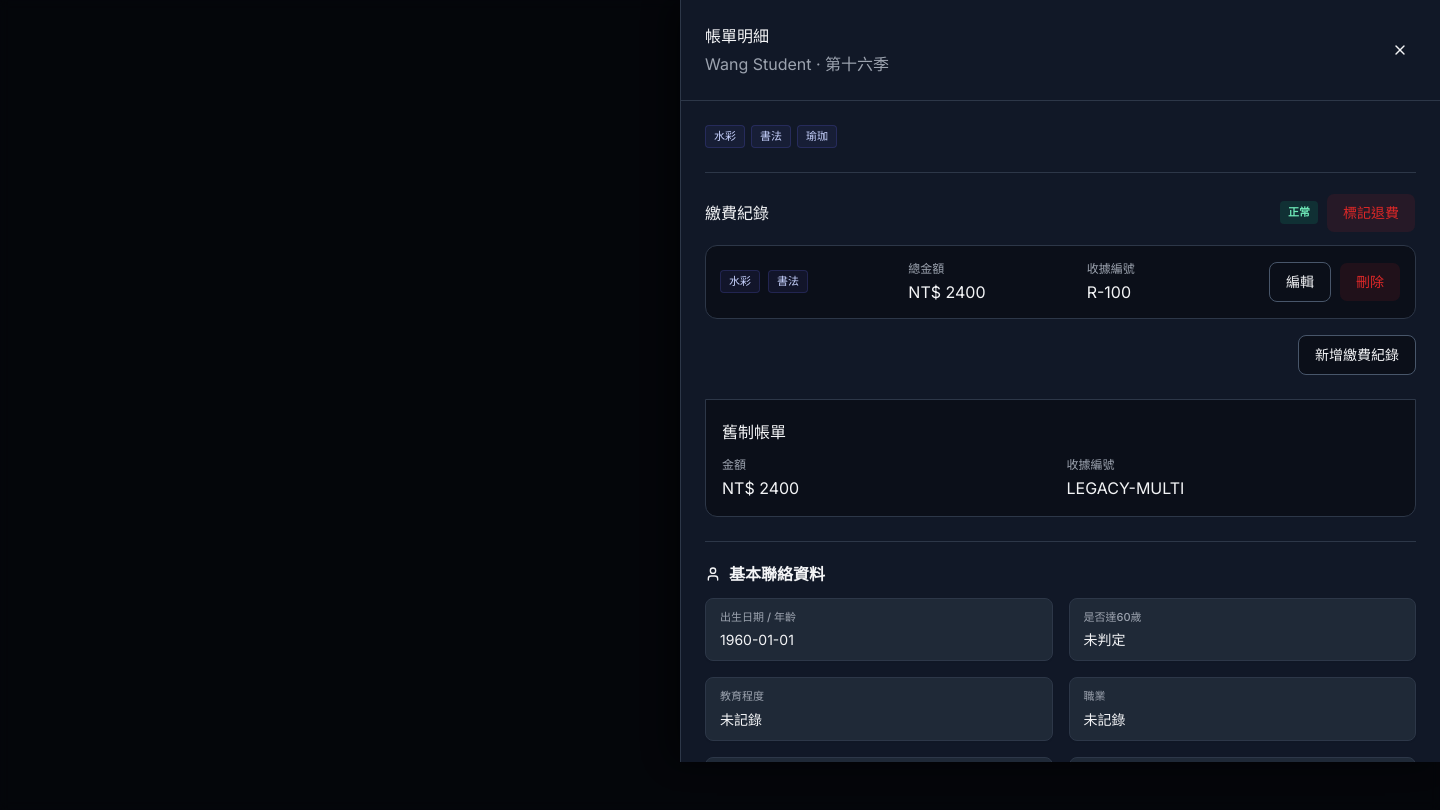
Test: EnrollmentBillingDetailModal › refreshes stale data when selected courses already have a payment
Click the button "新增繳費紀錄": (1357, 354) left=1298, top=334, right=1416, bottom=374
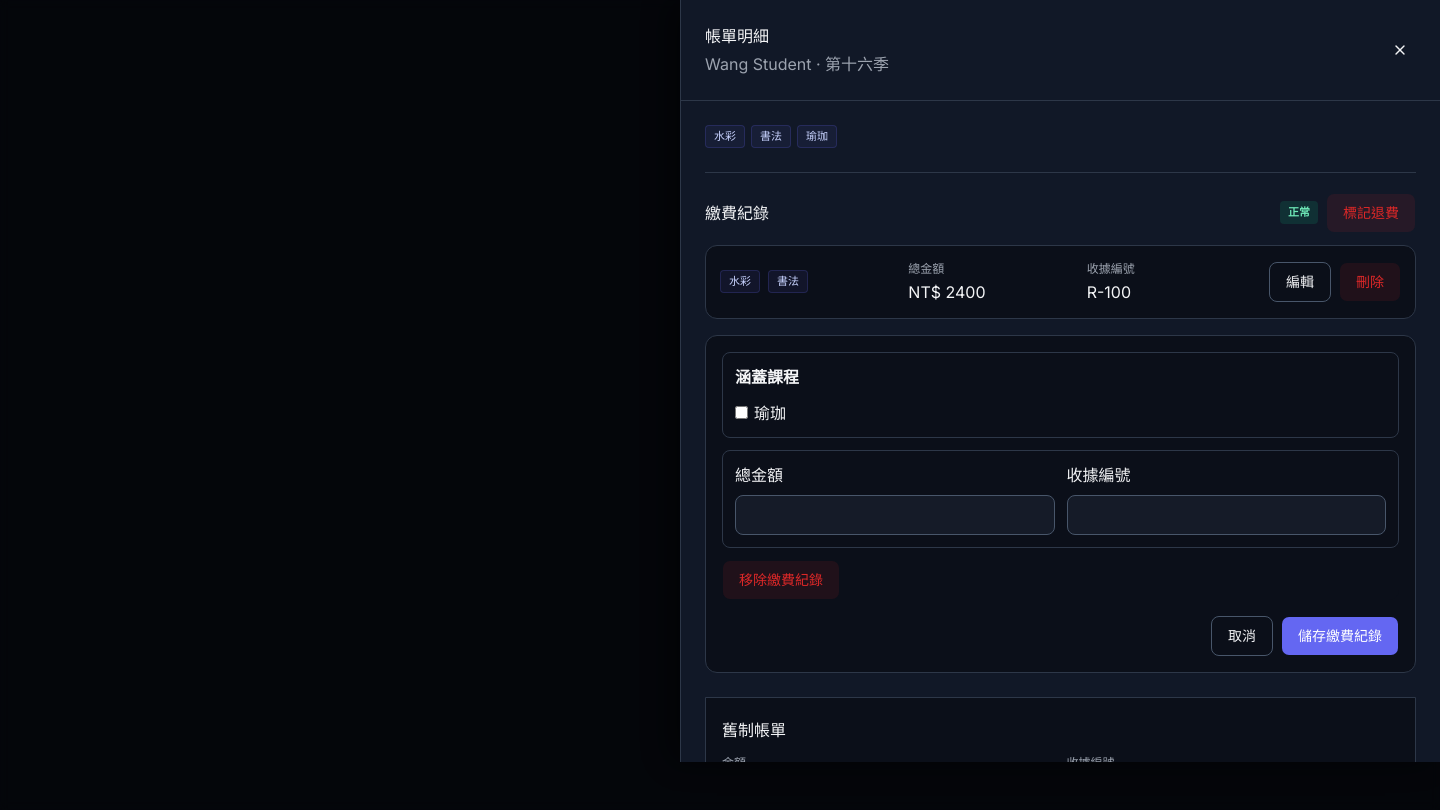
Click the checkbox labelled "瑜珈": (742, 412) left=735, top=406, right=748, bottom=419
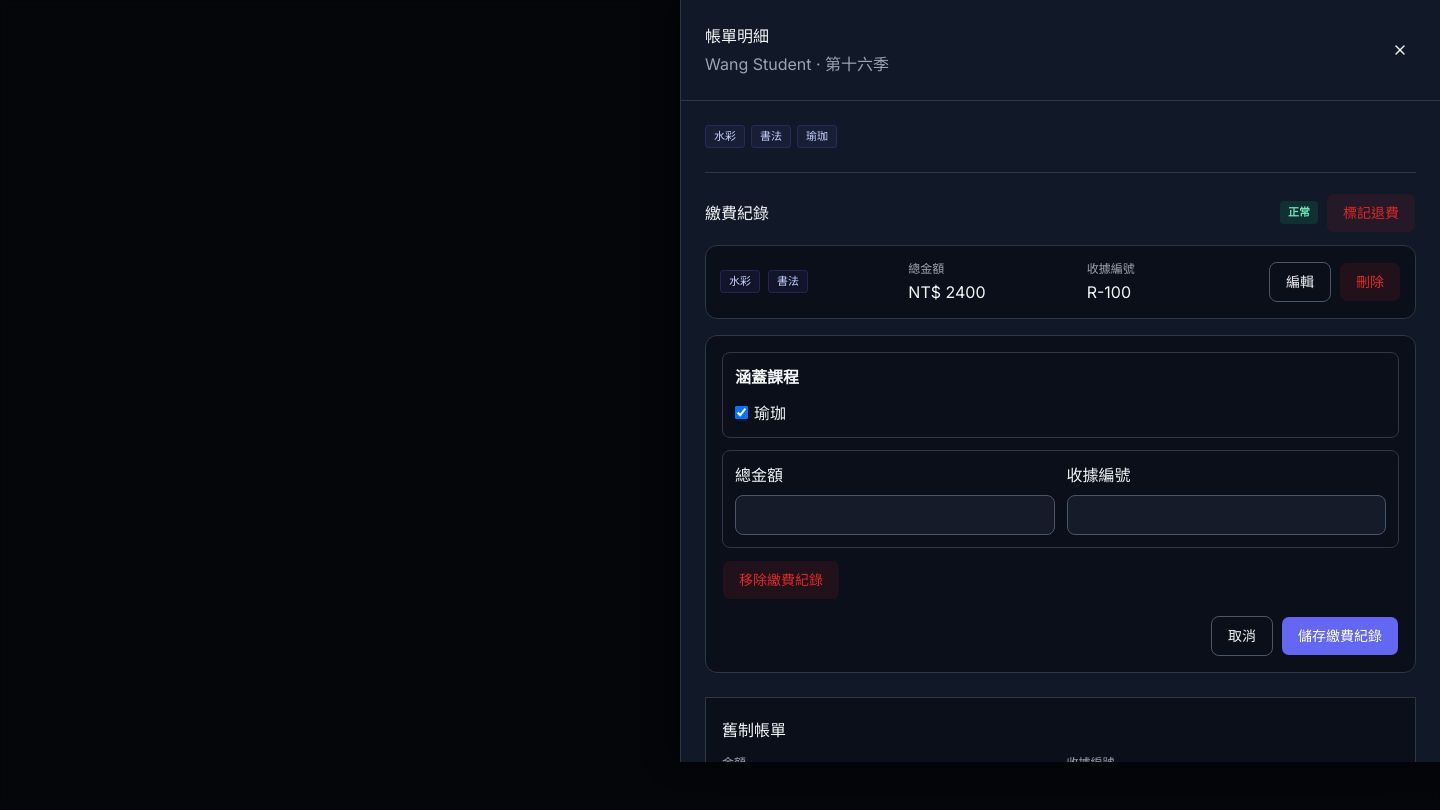
In the number field labelled "總金額": (895, 514) left=735, top=494, right=1054, bottom=534, type "1600"
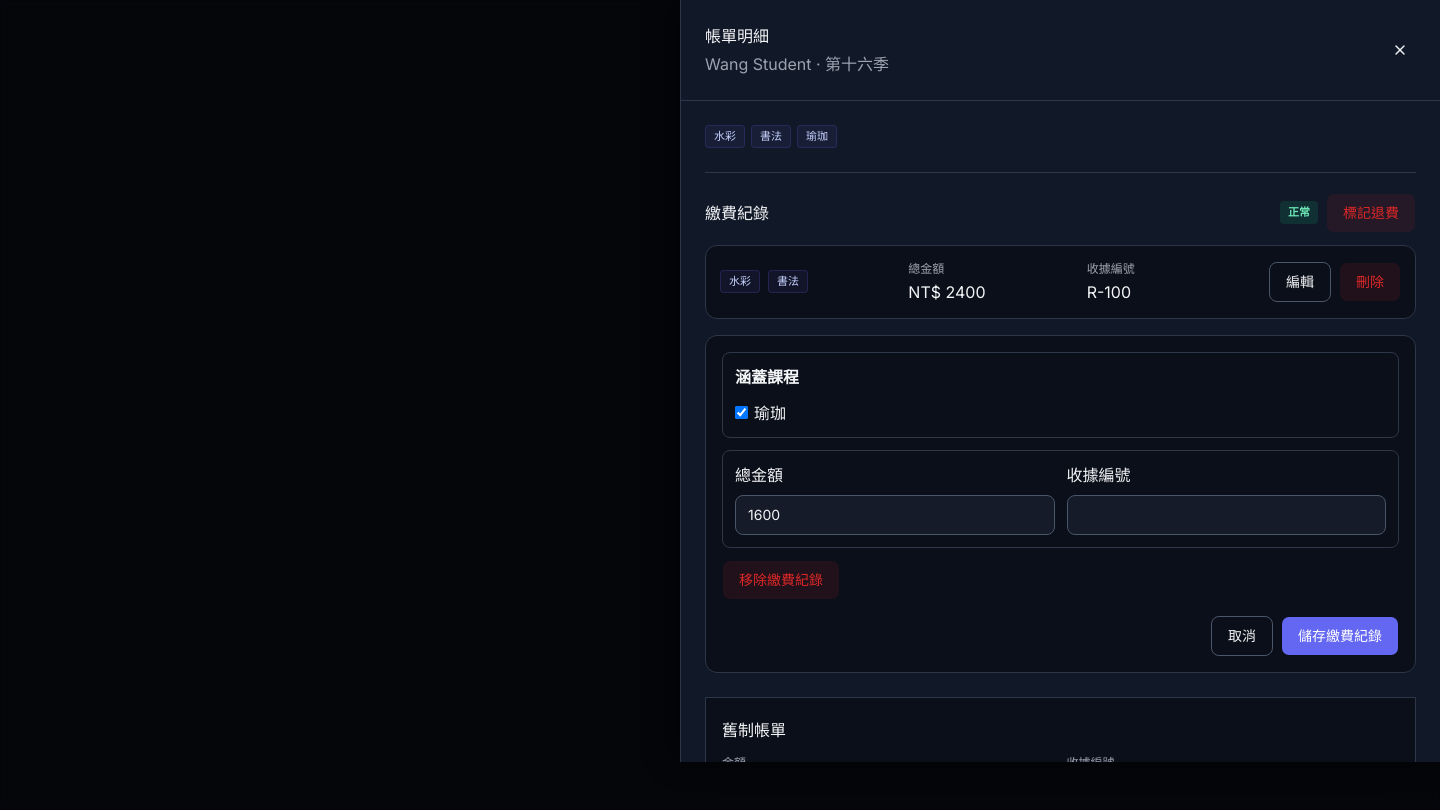
Click the button "儲存繳費紀錄": (1340, 636) left=1281, top=616, right=1399, bottom=656
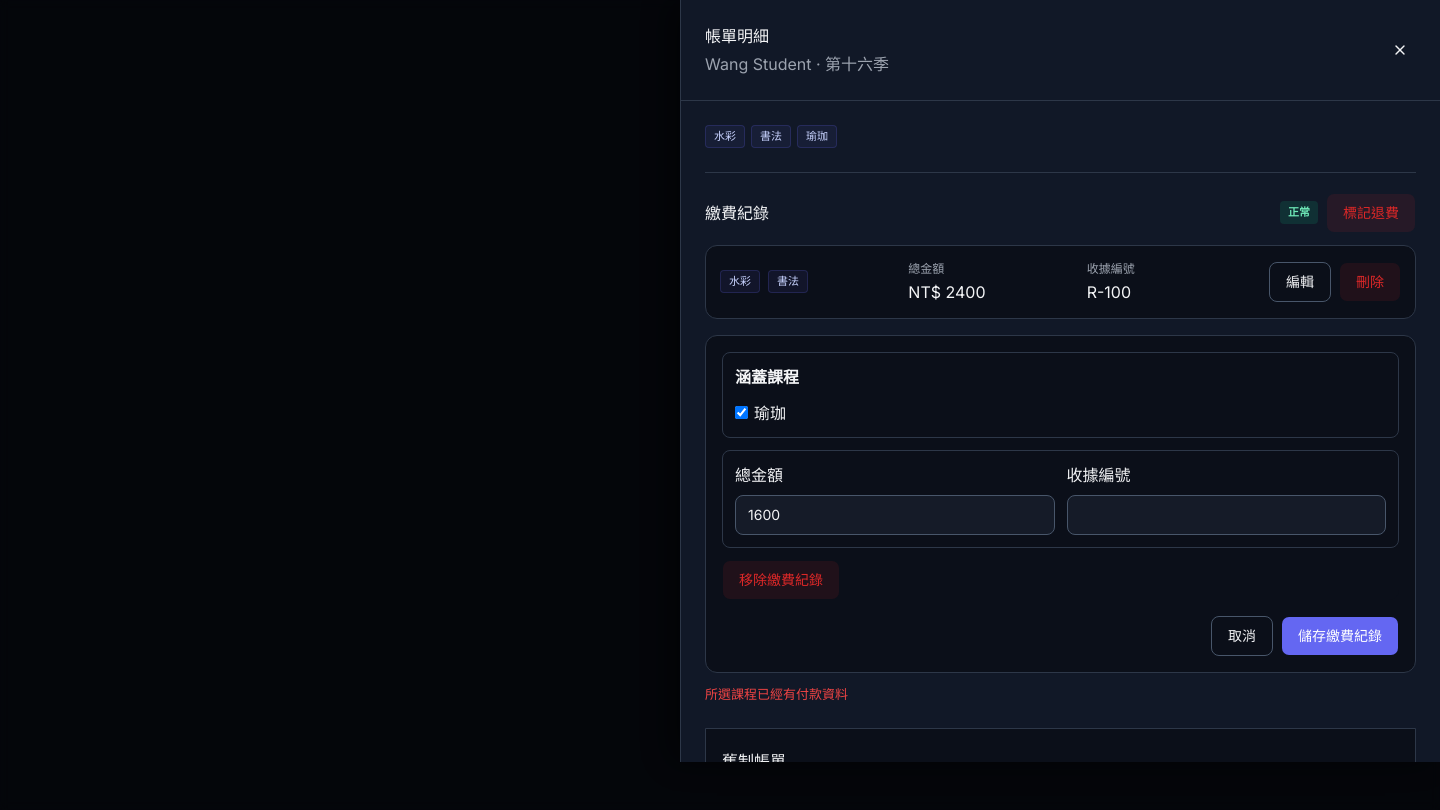
Now the message reads "所選課程已經有付款資料", box left=705, top=686, right=848, bottom=702
